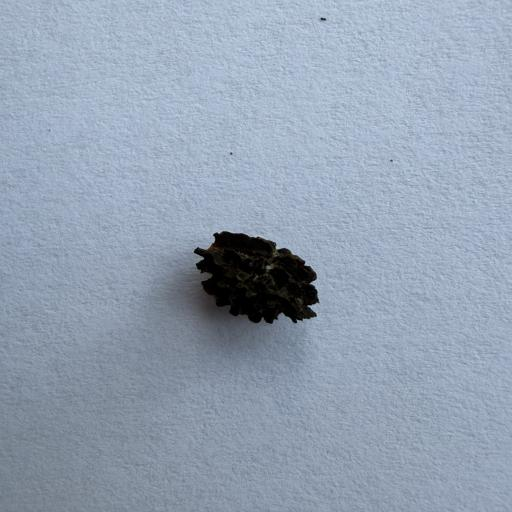papaya_seed: (188, 206, 348, 348)
